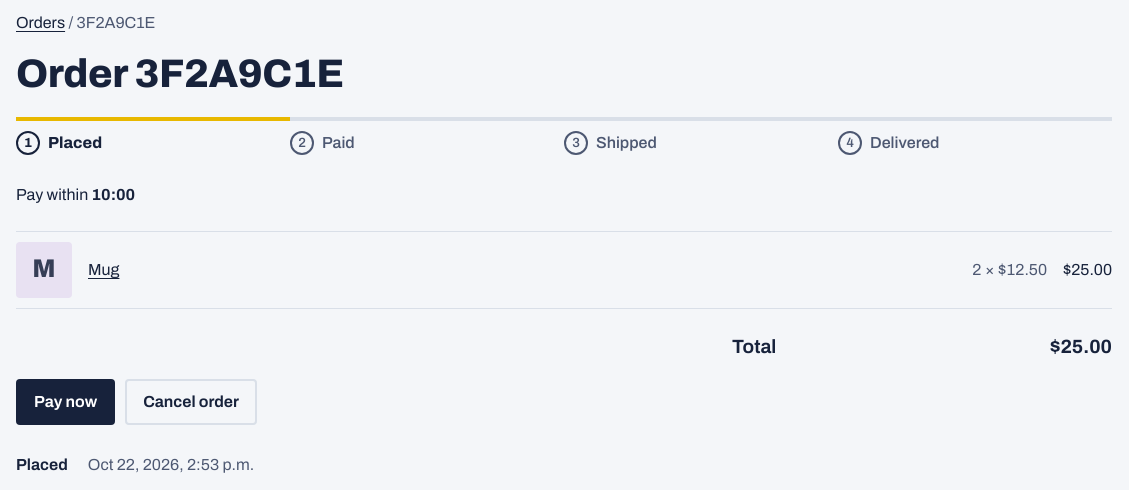
Test case: OrderDetailPage › pays and moves the track forward
The image size is (1129, 490).
What coordinates should you click on to do the following:
click the button "Pay now"
I would click on:
 (66, 402)
Its box is [16, 380, 115, 426].
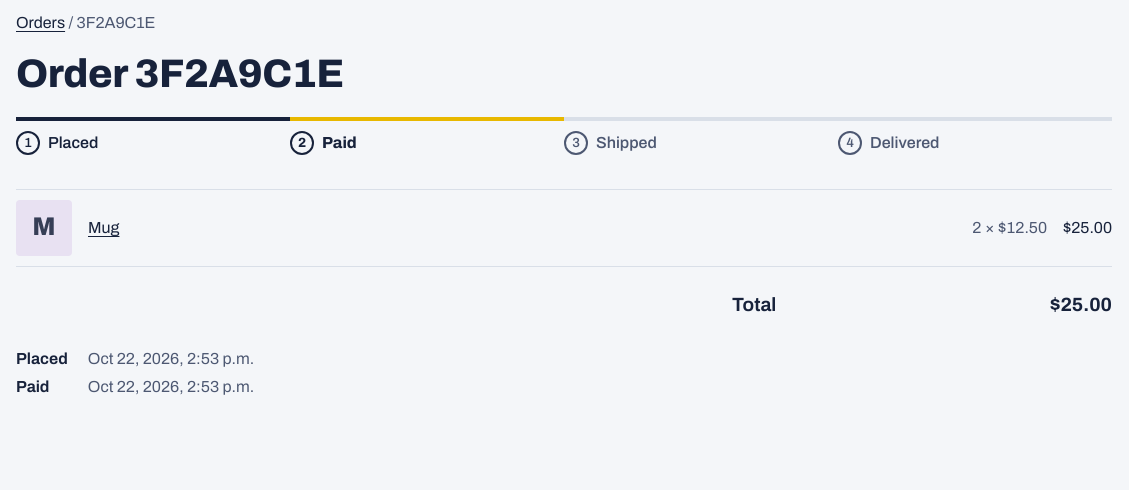
expect the text "Paid" is shown: met, box [16, 378, 50, 396]
expect the button "Pay now" is gone: met
expect the text "Pay within" is gone: met
